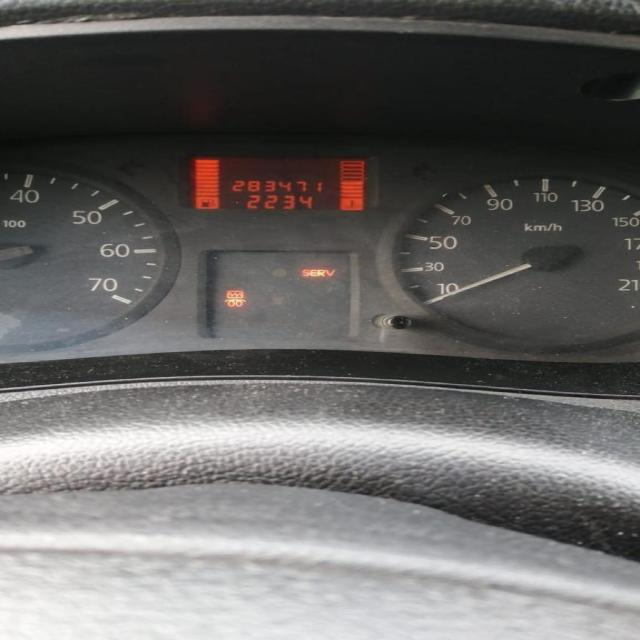odometer: (178, 154, 373, 213)
